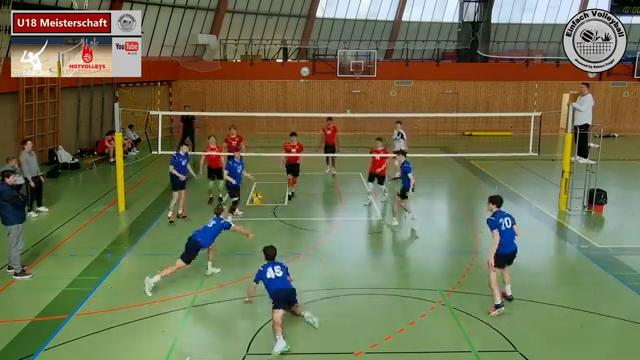difesa: (139, 199, 256, 298)
